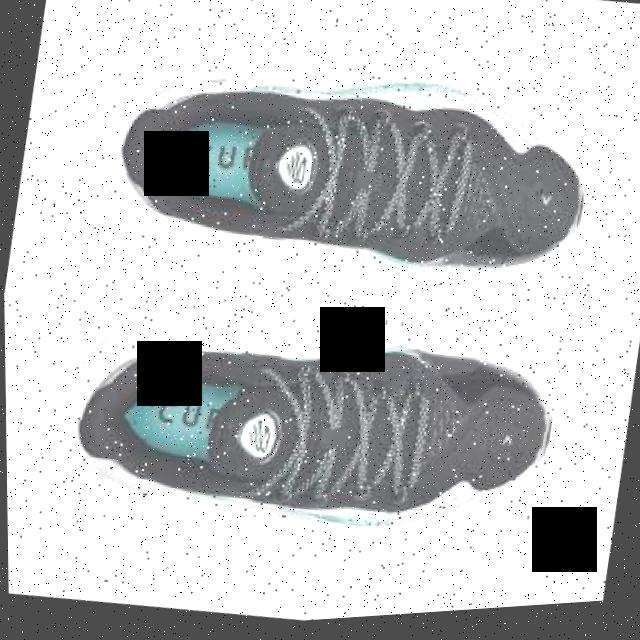shoe: (89, 26, 603, 334), (57, 269, 568, 574)
